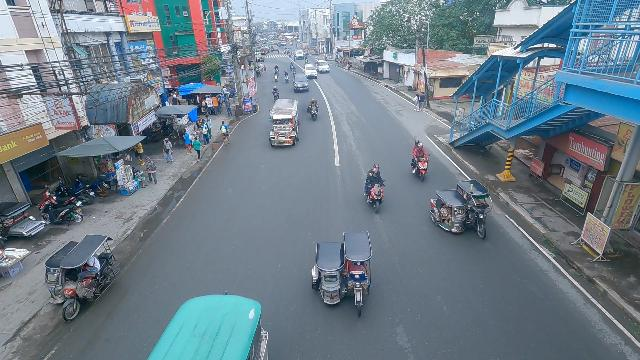car: (293, 73, 309, 93), (303, 63, 318, 80), (316, 59, 330, 74)
jeepney: (268, 98, 300, 150)
motorcycle: (364, 164, 385, 213), (411, 143, 430, 184), (306, 98, 321, 122), (272, 84, 280, 100), (283, 72, 290, 84), (273, 71, 278, 83), (274, 65, 279, 75), (290, 62, 293, 71)
van: (294, 49, 304, 60)
